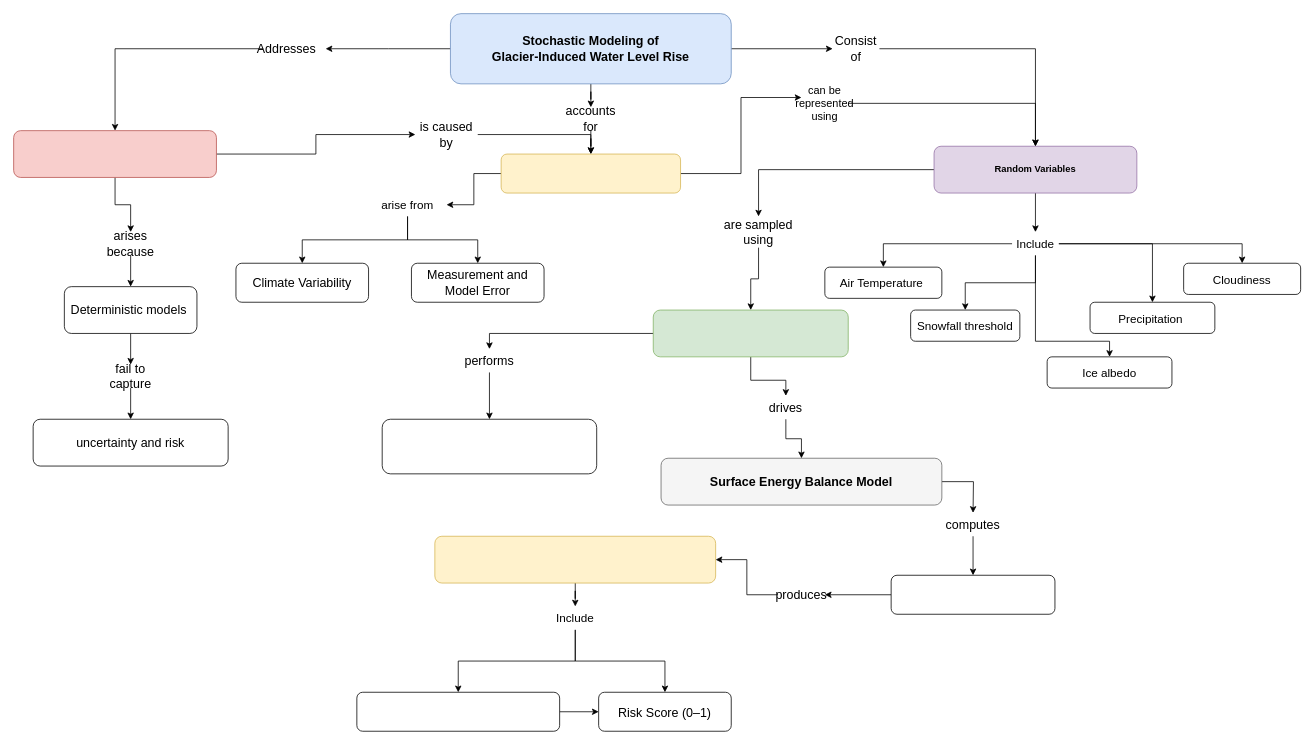
Some shapes in this 1314 by 745 pixel diagram are drawn without their labels. The shapes that lost their labels are listed below. From the top down, each one's box as (x1, y1, x2, y2) in pixels, then its label:
(13, 130, 216, 177): Problem Definition
(500, 153, 681, 193): Sources of Uncertainty
(652, 309, 848, 357): Monte Carlo Simulation
(381, 418, 597, 474): Random Sampling of Inputs (Repeated Trials)
(434, 535, 716, 583): Probabilistic Outputs
(890, 574, 1055, 614): Glacier Melt and Runoff
(356, 691, 560, 731): PDF / CDF of Water Level Rise
